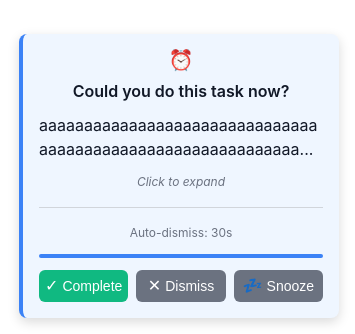
Test: PromptToast › should collapse expanded text when clicked again
This screenshot has width=355, height=334.
Click the button "Click to expand" at (181, 137), box [39,113,323,161]
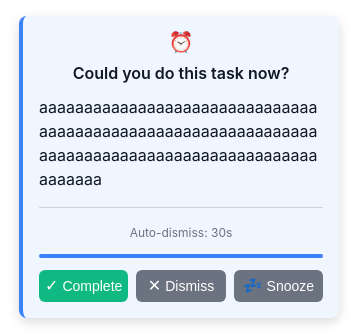
Click the button with aria-label "Click to collapse" at (181, 143), box [39,95,323,191]
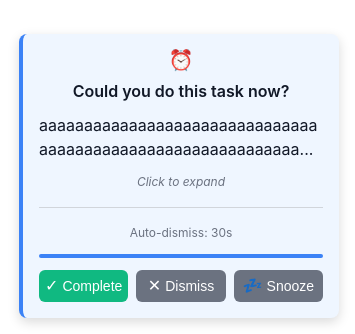
Now the button "Click to expand" is shown, box [39,113,323,161]
